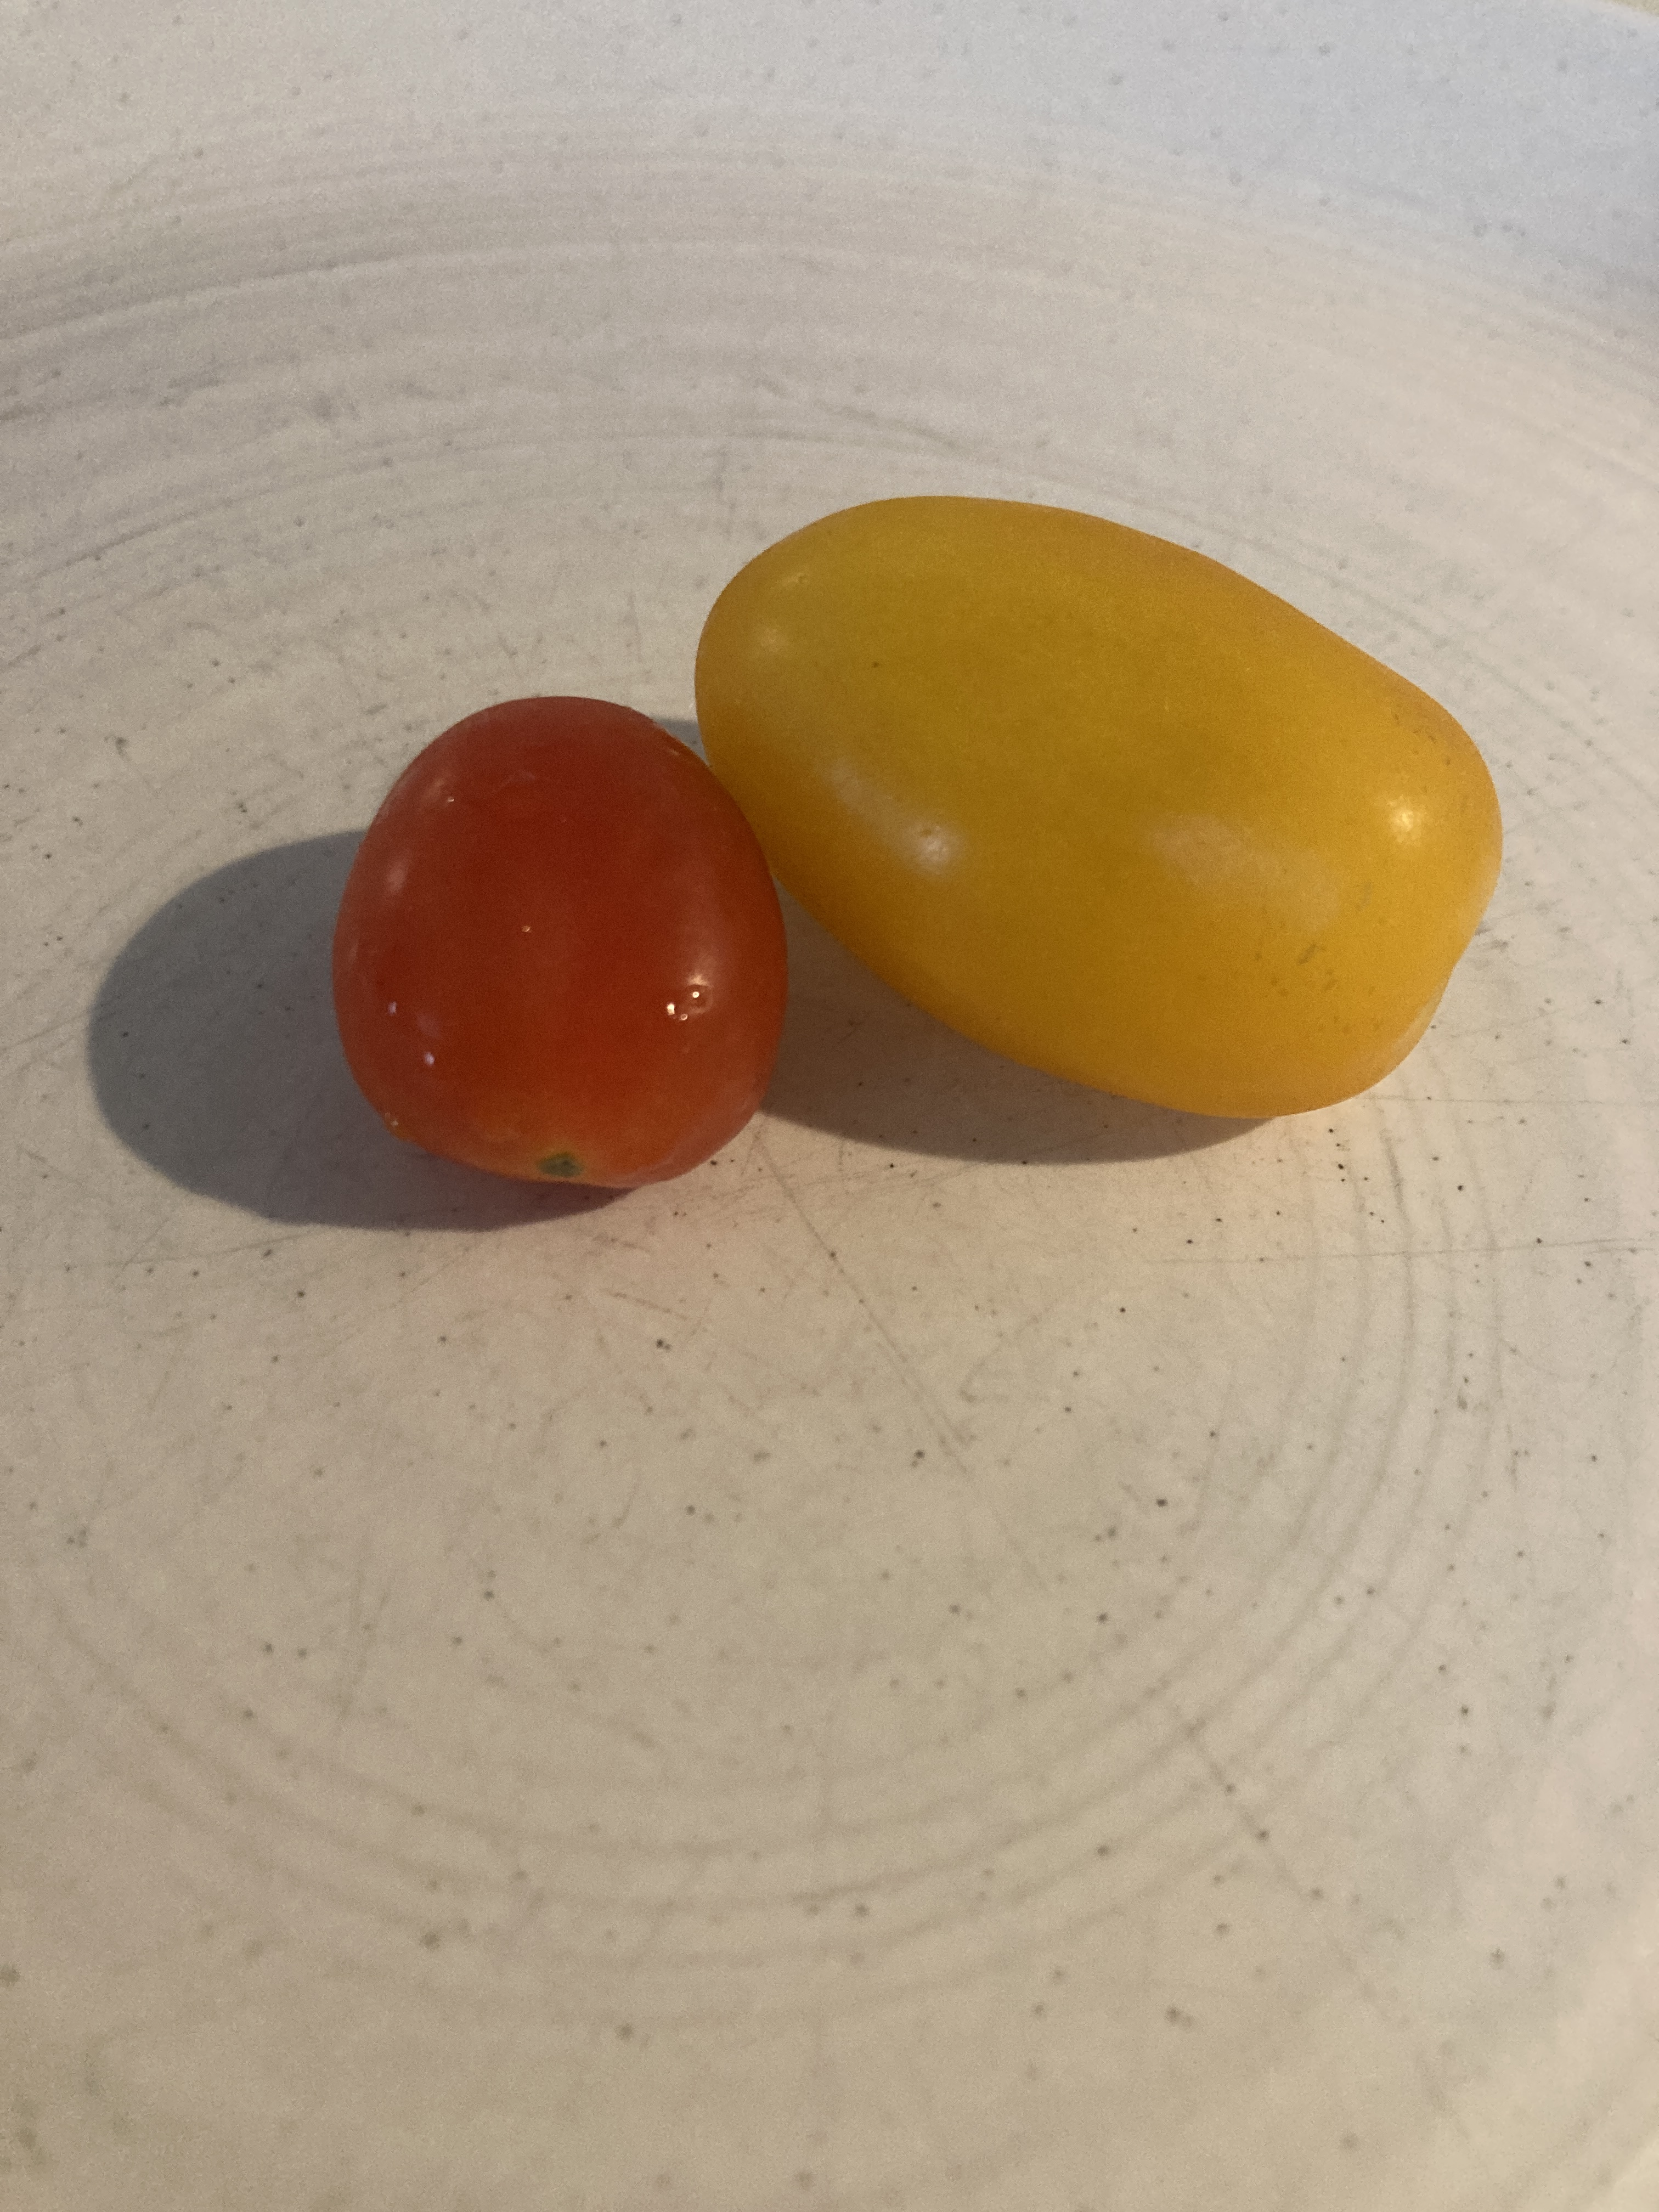healthy-tomato: (687, 489, 1506, 1122), (321, 690, 793, 1193)
